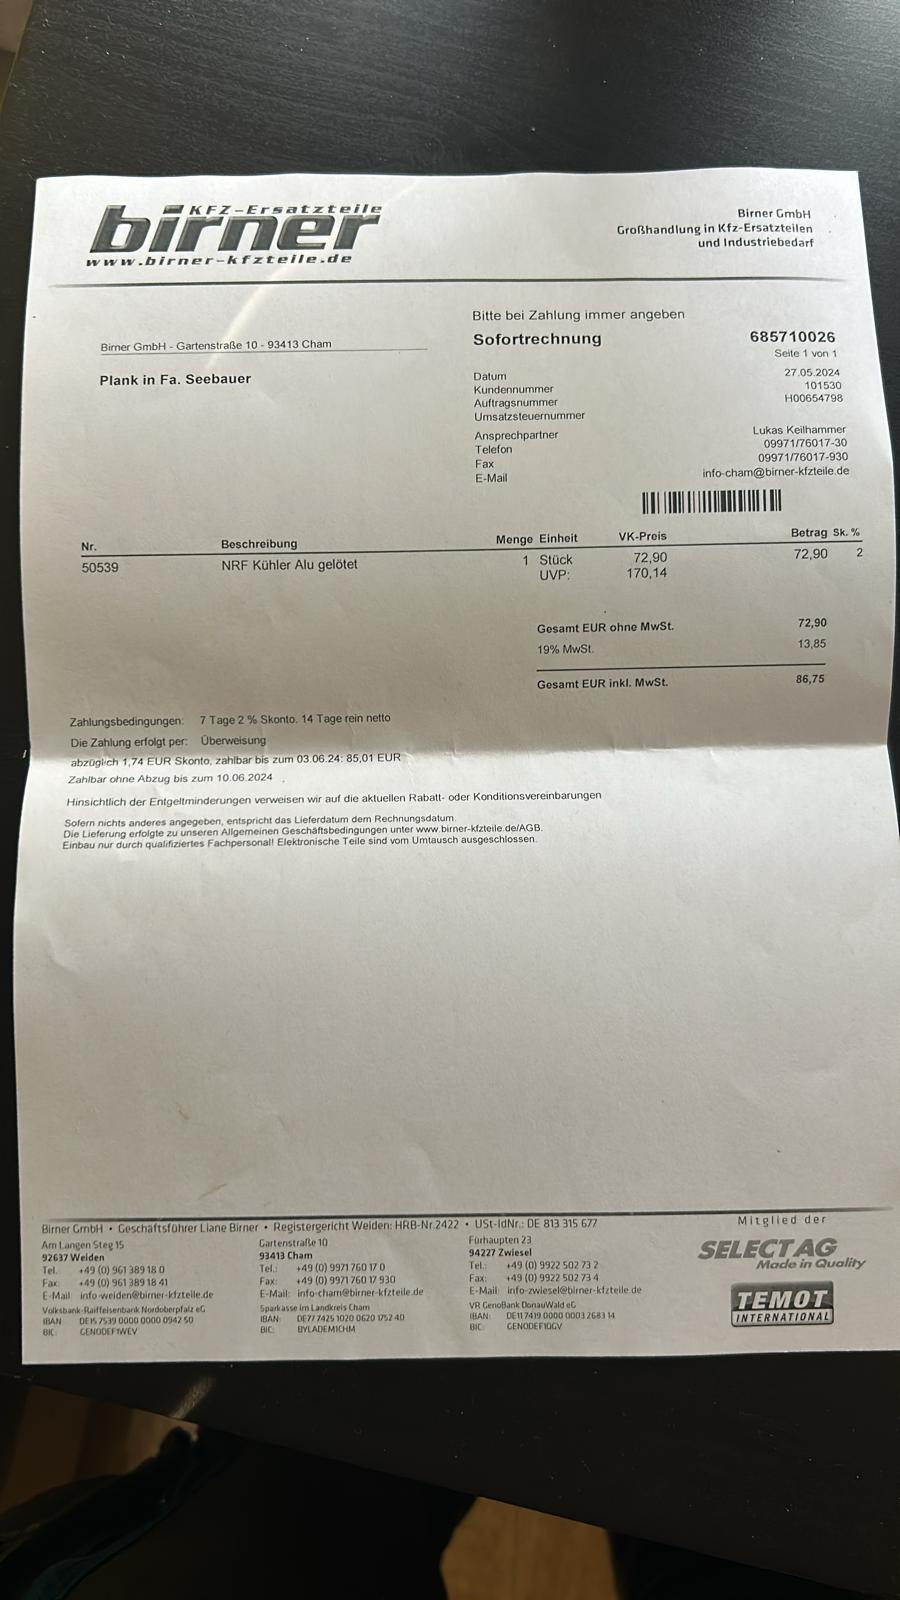table: (69, 531, 857, 599)
total-price: (790, 665, 831, 695)
